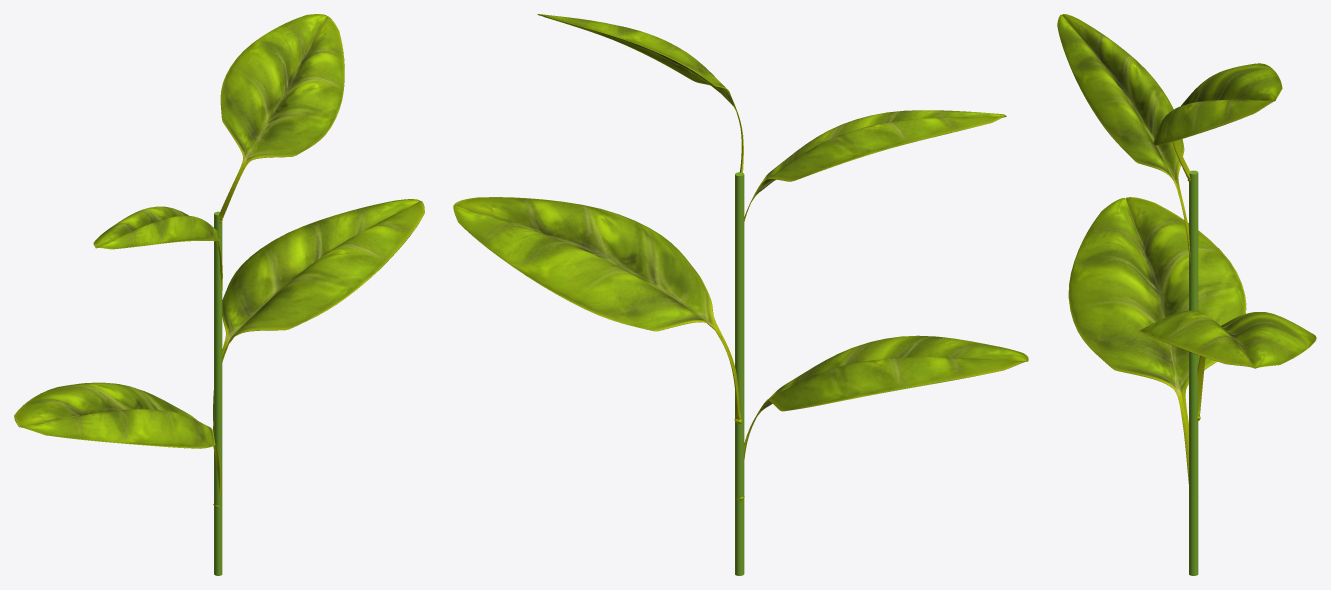
File: tea.fbx
3 renders of one model, left to right at view 1: azimuth 30°, elevation 25°; view 2: azimuth 150°, elevation 25°; view 3: azimuth 270°, elevation 25°, orthographic. The views are drawn at different scales.
Parts seen in each view (by area): view 1: Plane.002, Plane, Plane.003, Plane.001, Cylinder; view 2: Plane.002, Plane.003, Plane.001, Cylinder, Plane; view 3: Plane.003, Plane.001, Plane.002, Plane, Cylinder.
Part boxes in pixels (x1,y1,x2,y2): Plane.002: [213, 199, 424, 435]; Plane: [219, 14, 344, 223]; Plane.003: [14, 382, 221, 507]; Plane.001: [93, 206, 222, 292]; Cylinder: [214, 211, 222, 575]; Plane.002: [453, 197, 742, 424]; Plane.003: [736, 335, 1028, 500]; Plane.001: [744, 110, 1006, 221]; Cylinder: [735, 172, 744, 575]; Plane: [537, 14, 743, 173]; Plane.003: [1068, 197, 1246, 498]; Plane.001: [1057, 14, 1190, 262]; Plane.002: [1140, 310, 1316, 420]; Plane: [1153, 63, 1282, 181]; Cylinder: [1189, 170, 1198, 575].
Bounding box in the file's own units: 216 × 224 × 94.81.
